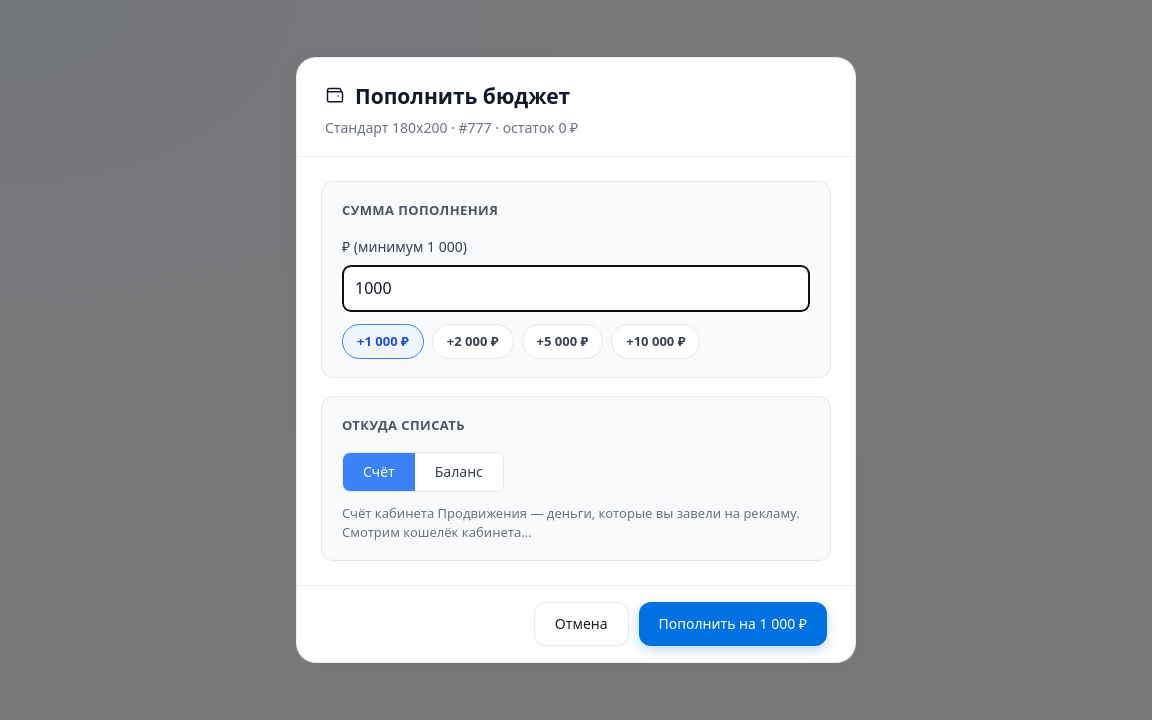
Test: DepositModal › на источнике меньше суммы — предупреждаем, но пополнить даём
Click the button "+10 000 ₽".
click(656, 342)  # box [611,324,700,359]
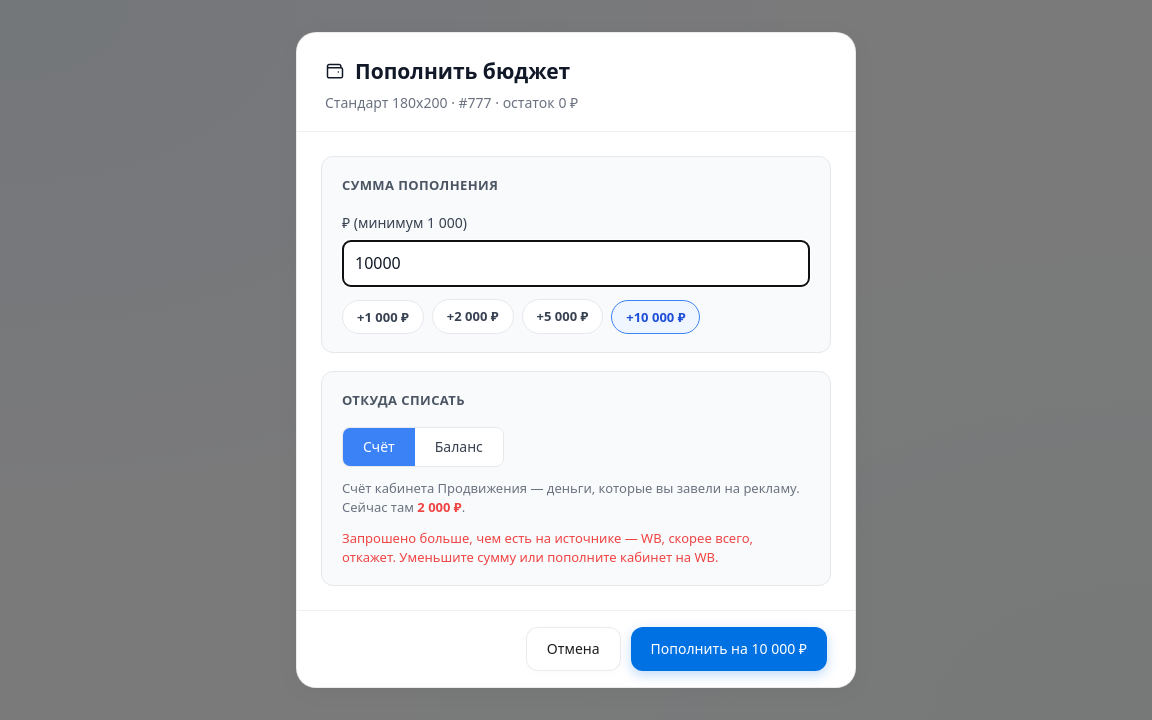
Expected: the button "Пополнить на 10 000 ₽" is enabled, [631,627,827,671]
Result: the text "Запрошено больше, чем есть на источнике" is shown at [342,529,753,566]
